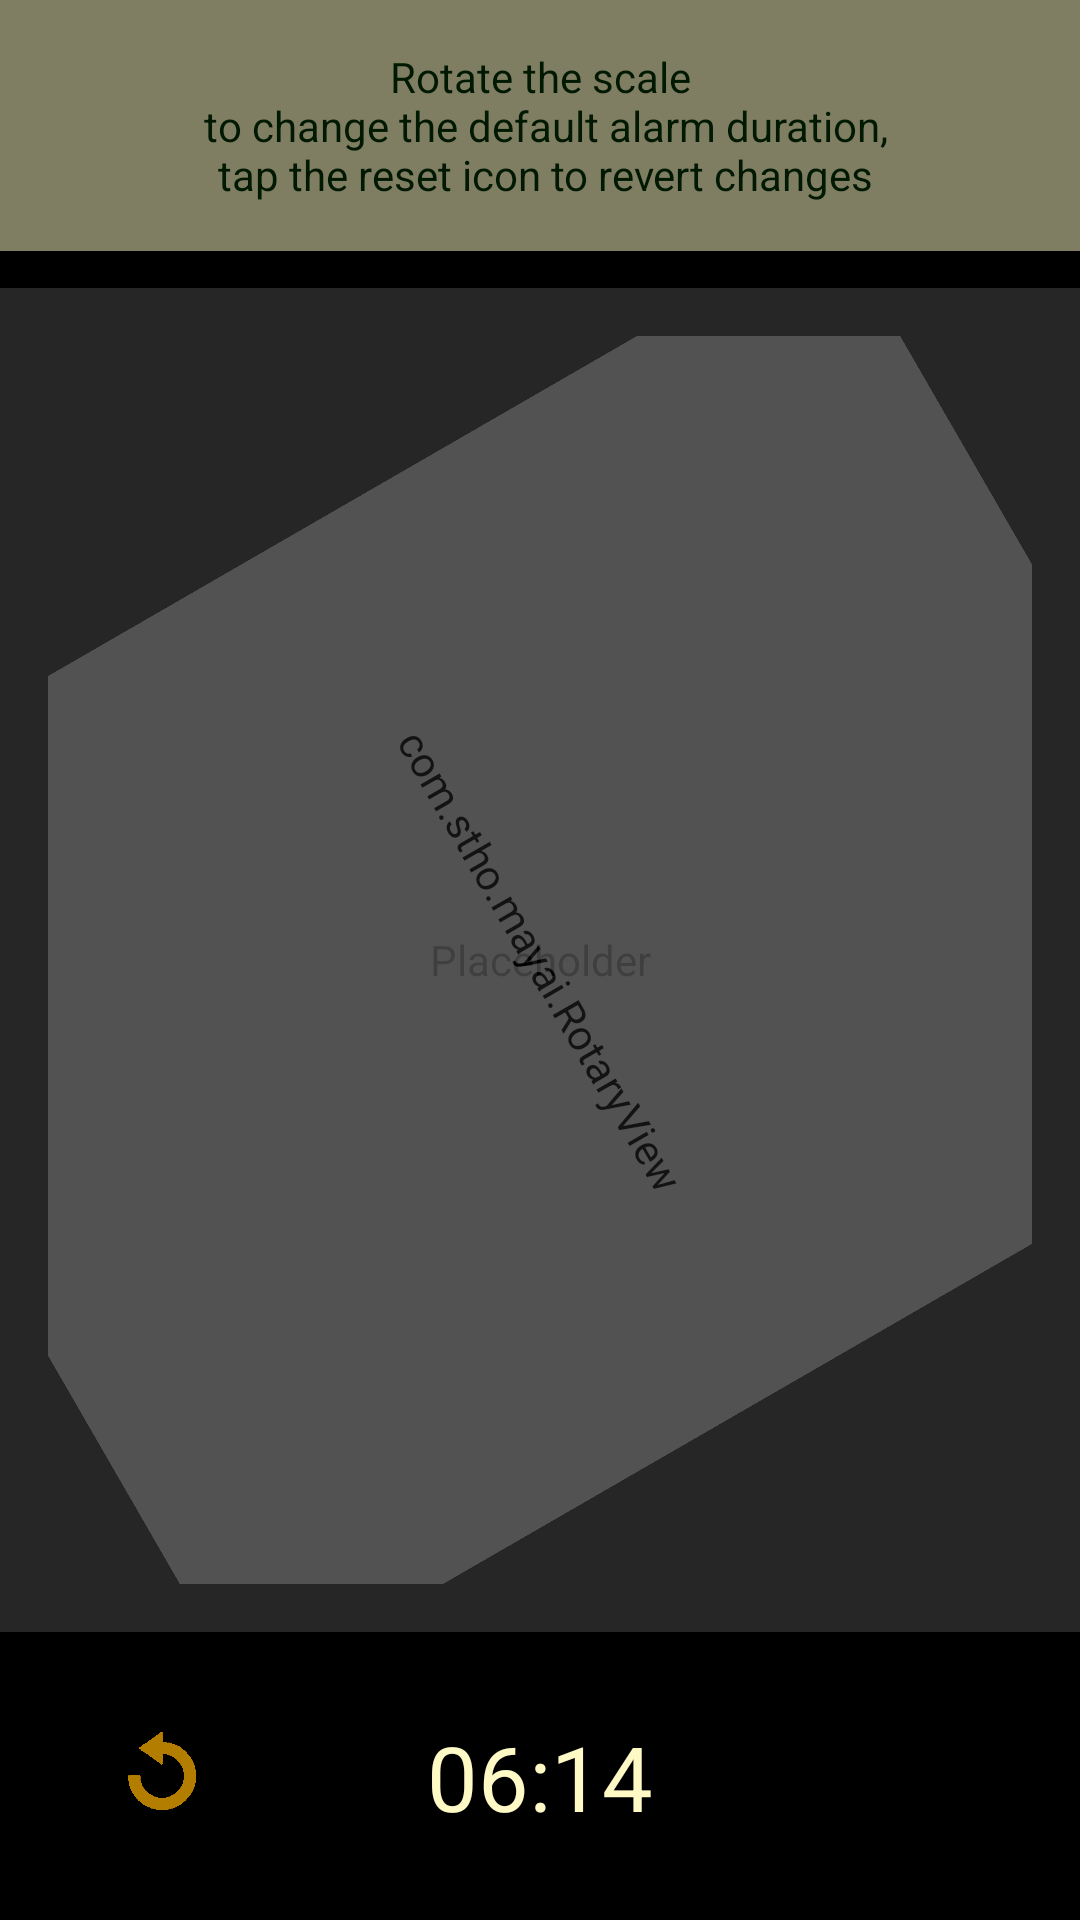

Where to tap for icons on this 1080x1920 app screen, as (x,y):
Undo: (162,1771)
